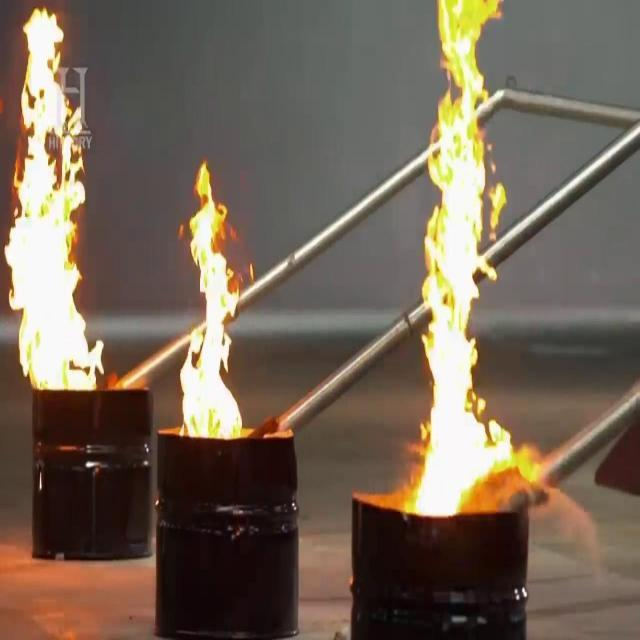Fire: (403, 1, 542, 519), (2, 6, 104, 391), (177, 156, 253, 440)
